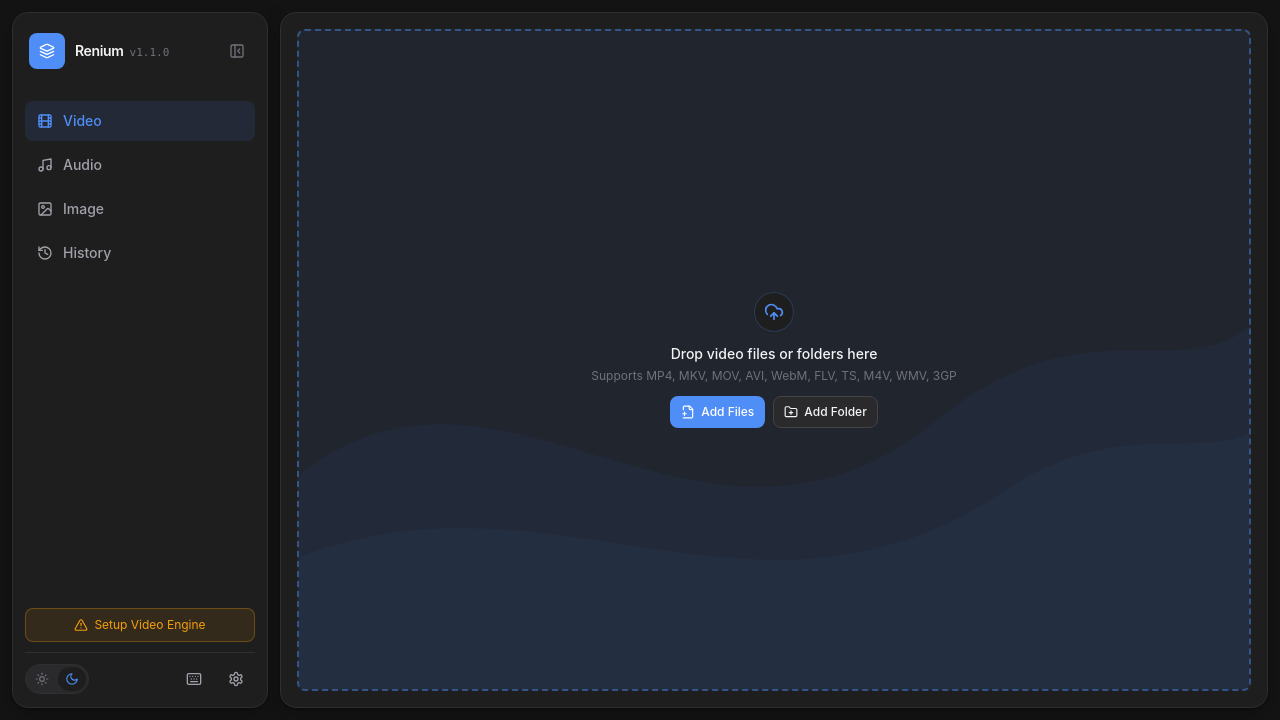
Test: Renium UI & Workflows › displays aggregated stats and filtering in History tab
Click the tab "History": (140, 253) [25, 233, 255, 273]
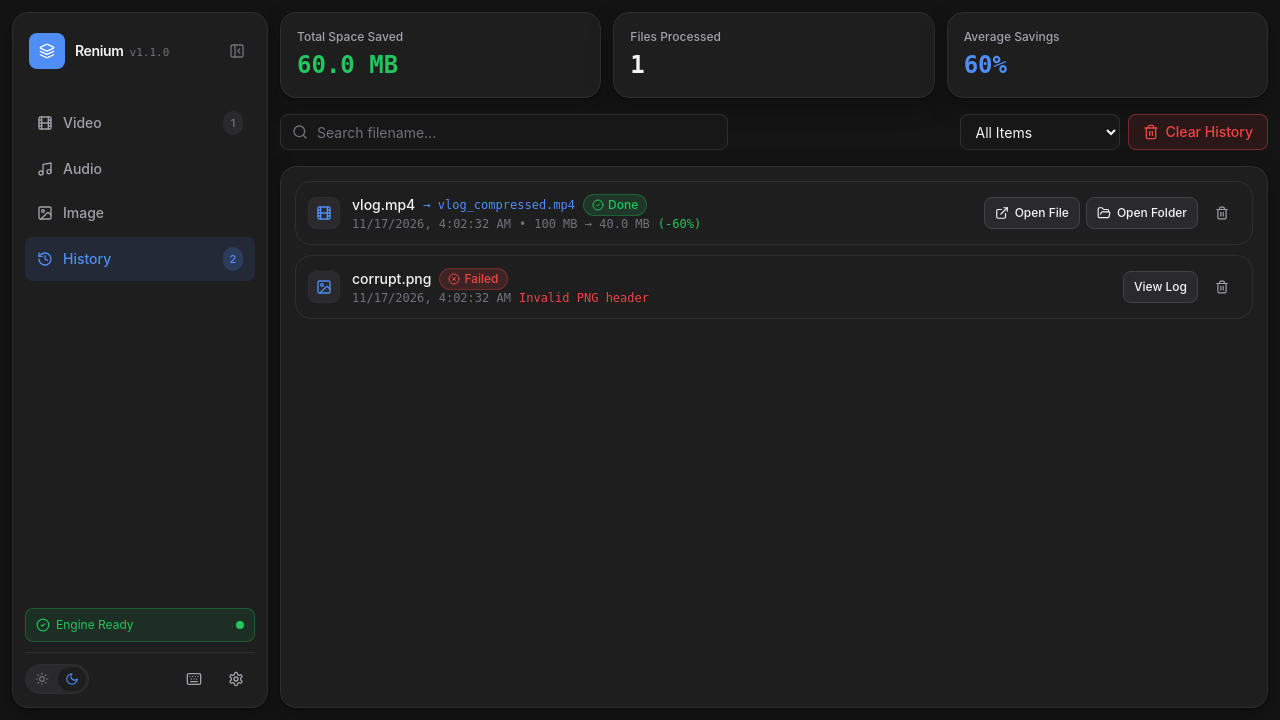
Check: the text "vlog.mp4" is shown, box [352, 195, 415, 215]
Check: the text "corrupt.png" is shown, box [352, 269, 431, 289]
Check: the text "60.0 MB" is shown, box [297, 51, 398, 79]
In the field with placeholder "Search filename...": (504, 132) [280, 114, 728, 150], type "vlog"
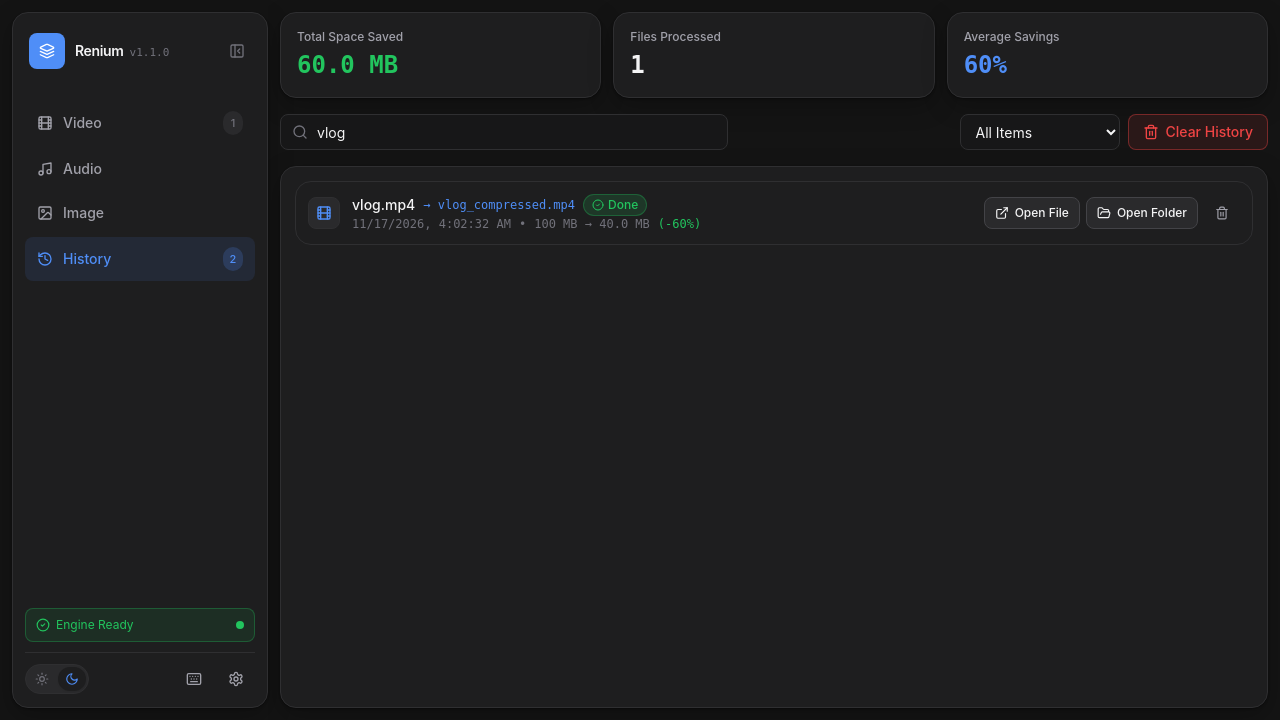
Check: the text "vlog.mp4" is shown, box [352, 195, 415, 215]
Check: the text "corrupt.png" is gone
